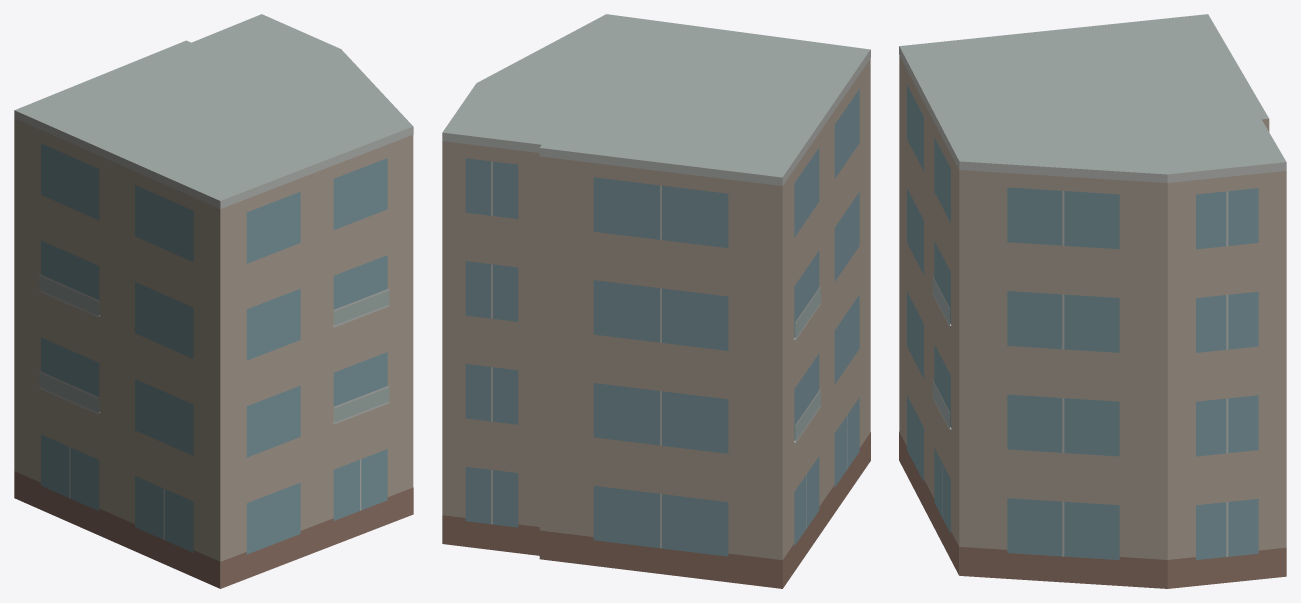
The model's file is survey-upis-33032349.glb.
3 renders of one model, left to right at view 1: azimuth 30°, elevation 25°; view 2: azimuth 150°, elevation 25°; view 3: azimuth 270°, elevation 25°, orthographic. The views are drawn at different scales.
Parts seen in each view (by area): view 1: survey-upis-33032349.tmp; view 2: survey-upis-33032349.tmp; view 3: survey-upis-33032349.tmp.
Boxes of the visible parts, <box> form: survey-upis-33032349.tmp: <box>14,14,413,588</box>; survey-upis-33032349.tmp: <box>442,14,870,588</box>; survey-upis-33032349.tmp: <box>899,14,1286,588</box>.
Size of the model in its own units: 9.77 by 11.75 by 9.97.
